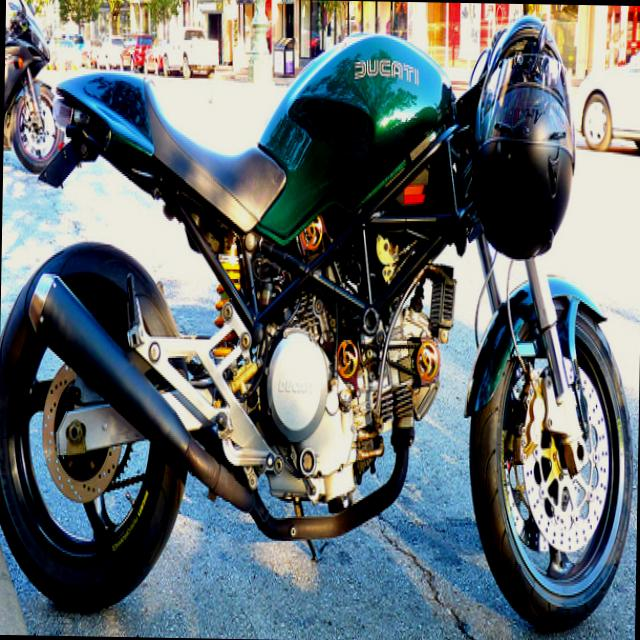Vehicle: (0, 11, 640, 628), (2, 0, 64, 176), (572, 32, 640, 151), (158, 28, 220, 78), (120, 34, 152, 70), (144, 34, 170, 72), (96, 36, 124, 71), (78, 37, 102, 70), (68, 34, 84, 51), (61, 39, 75, 48)
